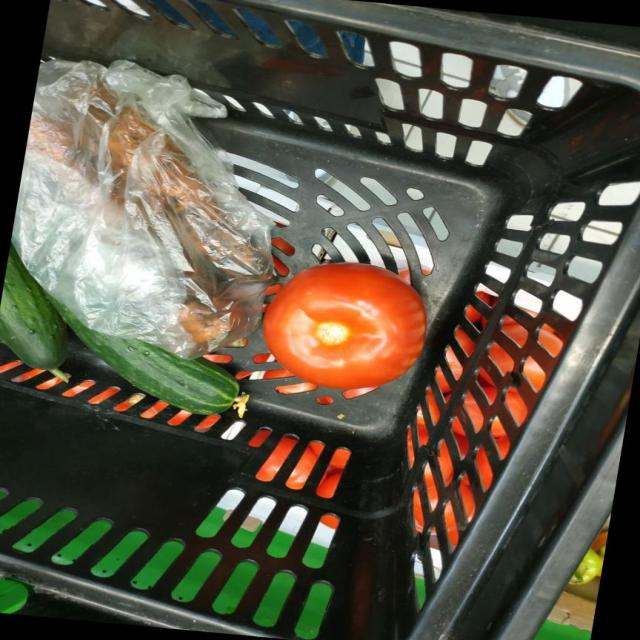Carrot: (152, 140, 222, 266), (107, 105, 155, 205), (179, 301, 244, 343), (155, 228, 183, 269)
Cucumber: (49, 297, 240, 415), (0, 240, 68, 381)
Tomatoes: (263, 262, 427, 390)
